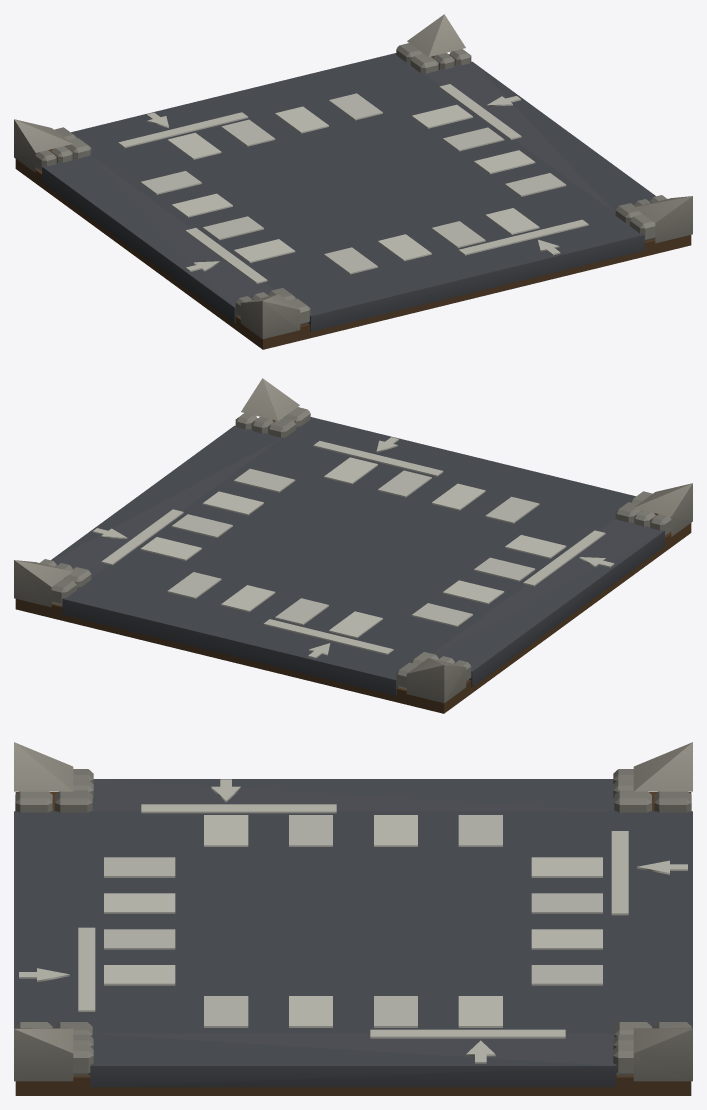
Rendered from road-4way-01.glb.
3 views of the same model, one above another, from view 1: azimuth 30°, elevation 25°; view 2: azimuth 150°, elevation 25°; view 3: azimuth 270°, elevation 25° (orthographic). The views are drawn at different scales.
Visible parts, largest first — view 1: road_4way_01; view 2: road_4way_01; view 3: road_4way_01.
Boxes of the visible parts, x1,y1,x2,y2 form: road_4way_01: (14,14,692,349); road_4way_01: (14,378,692,713); road_4way_01: (14,742,692,1095).
Size of the model in its own units: 4 by 0.44 by 4.
